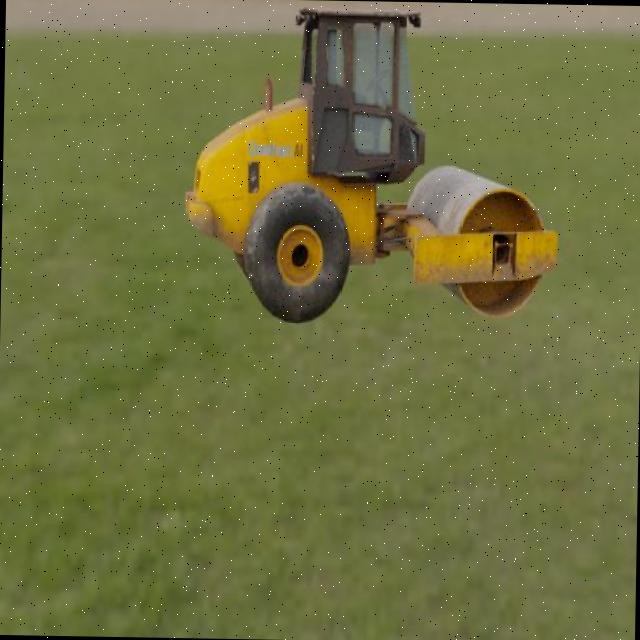Roller: (182, 4, 561, 327)
